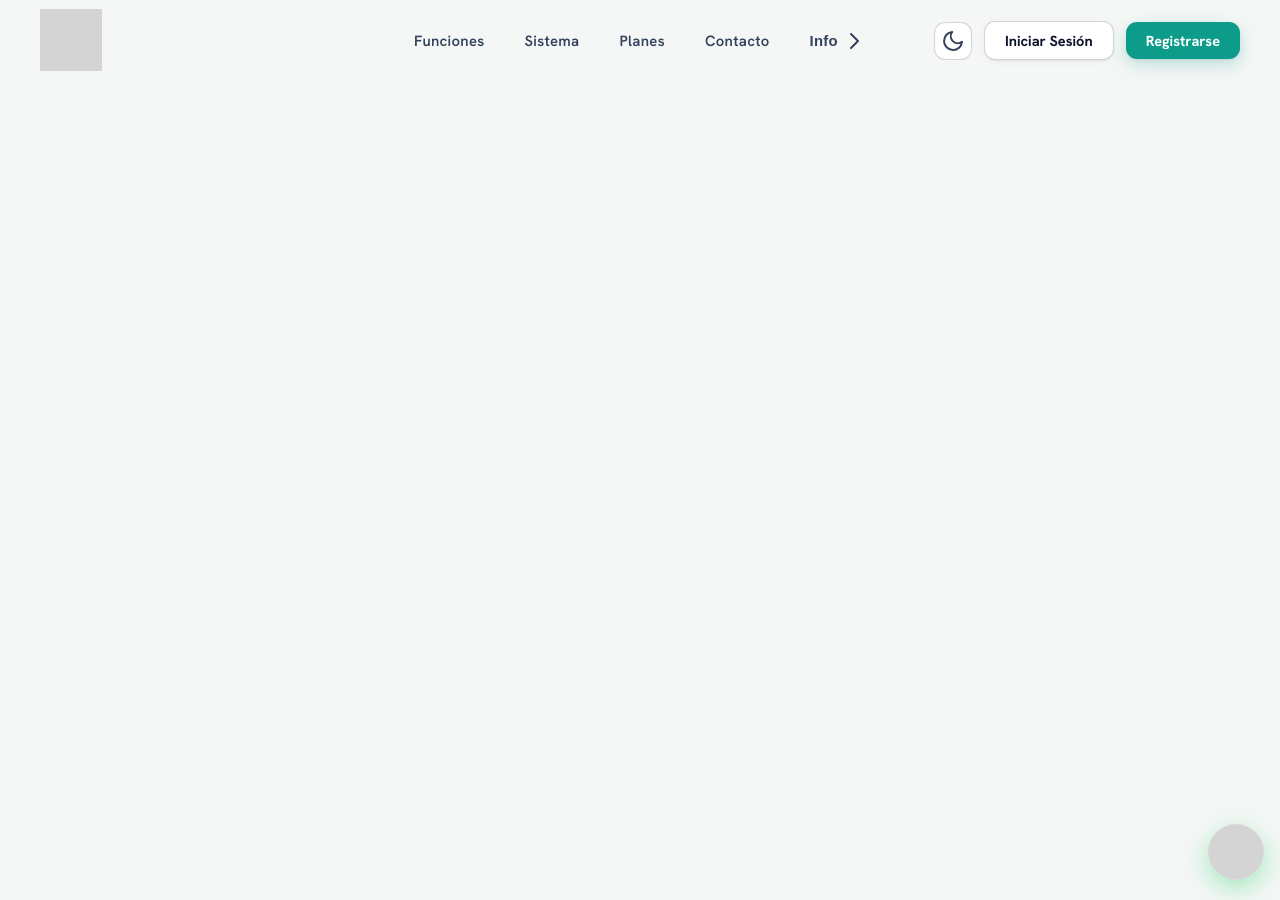
Test: LandingPage › closes modals with Escape key
Click the button "Iniciar Sesión" at (1049,40), box [984,21,1114,60]
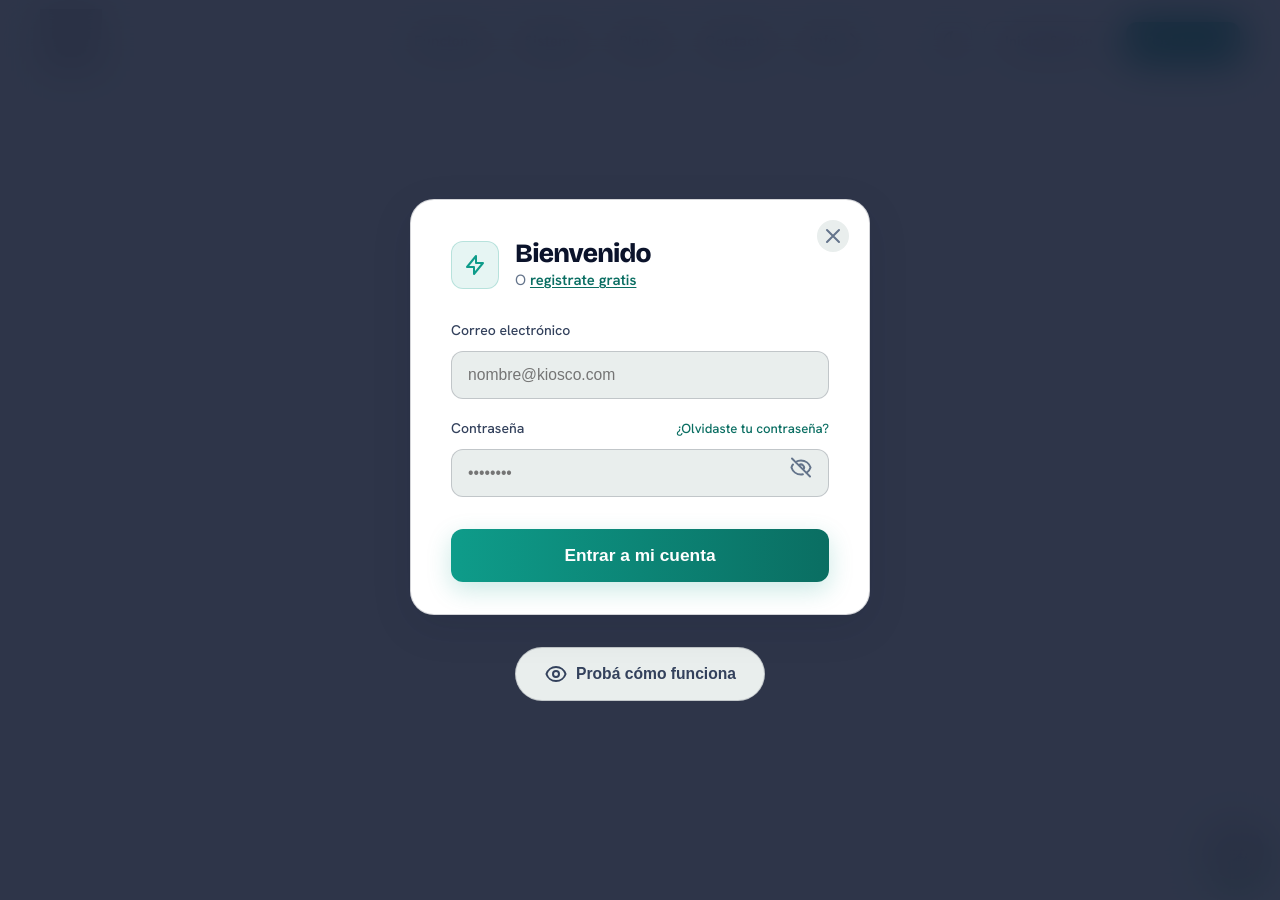
Result: the heading "Bienvenido" is shown at [515,240,651,266]
Press Escape
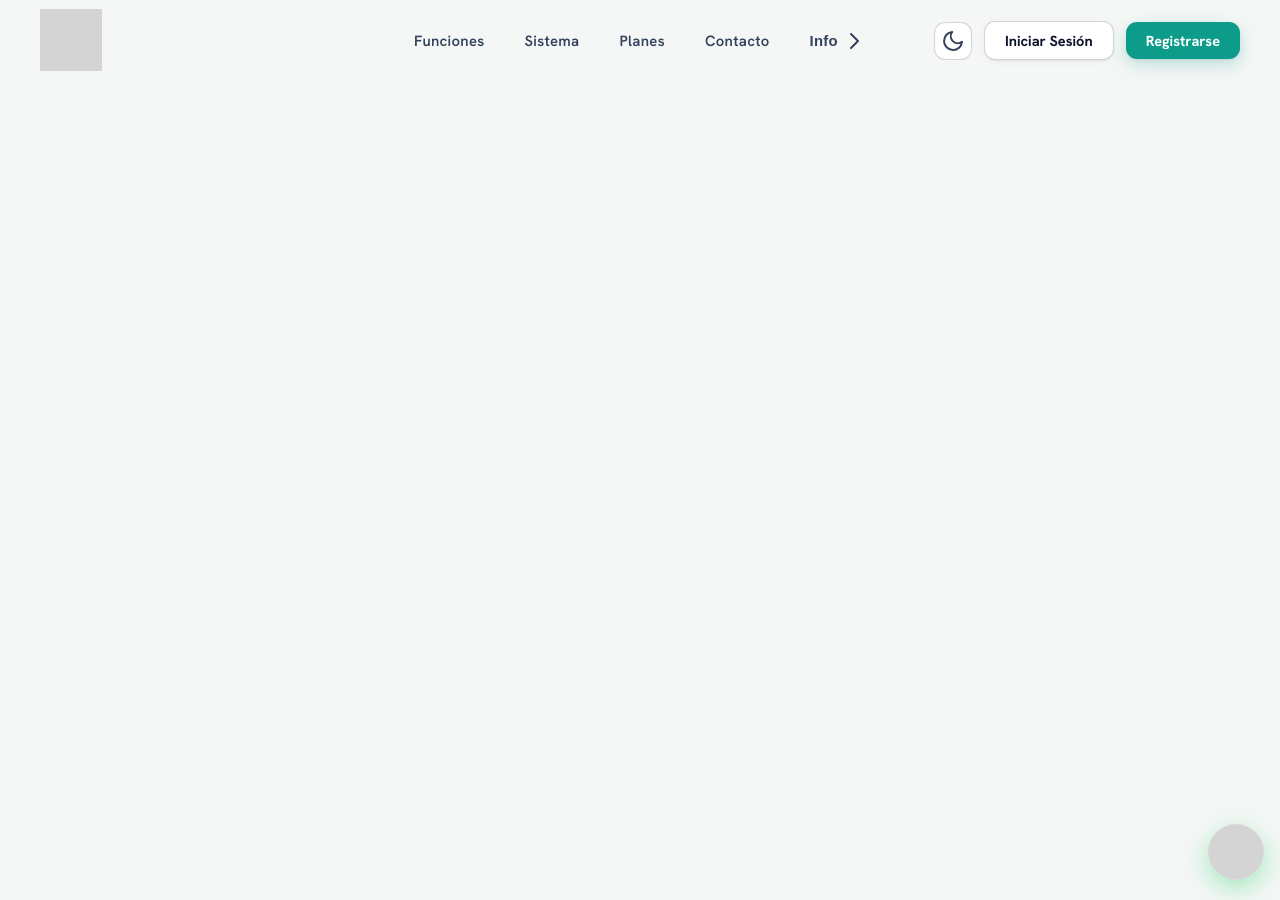
Result: the heading "Bienvenido" is gone
